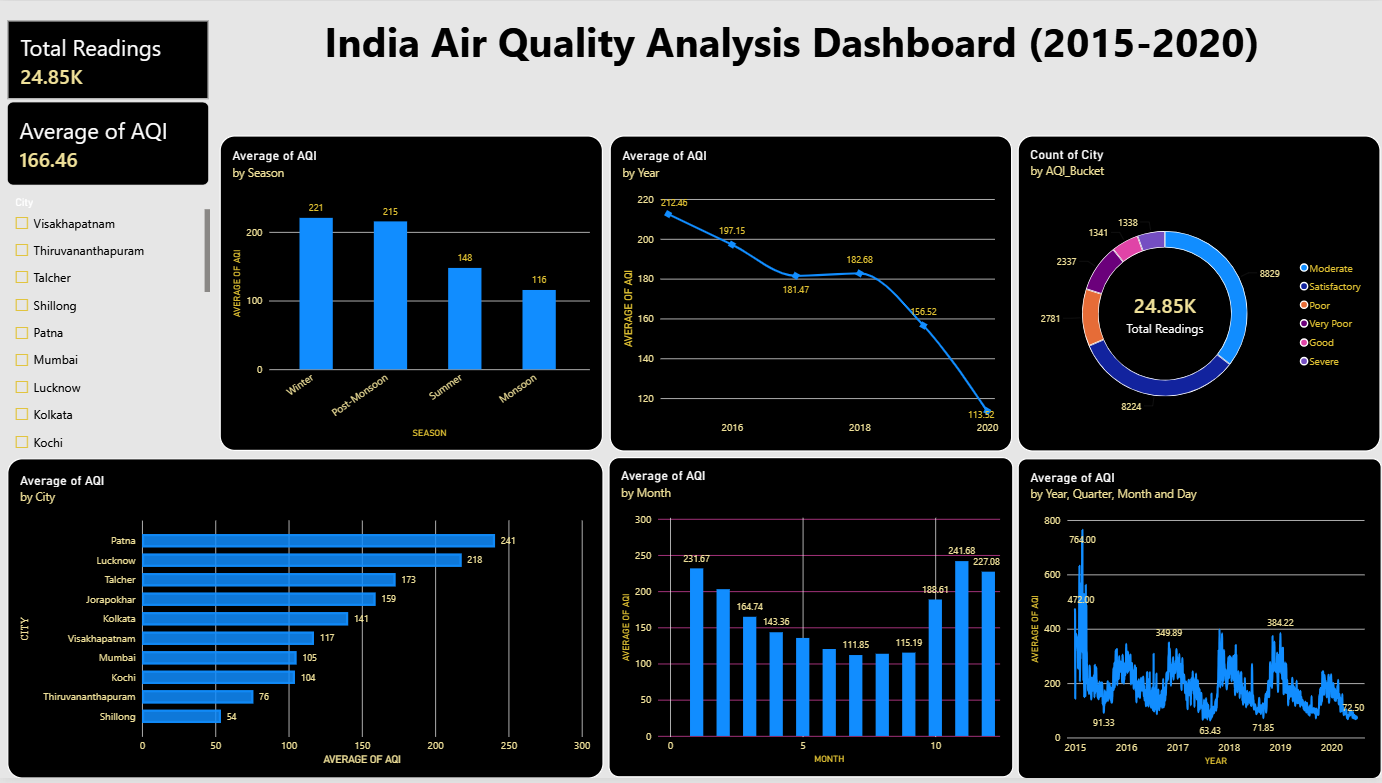

This screenshot's page, from the dashboard's own definition file:
{"tool":"powerbi","page":{"name":"Page 1","canvas":[1920,1080],"ordinal":0},"visuals":[{"type":"cardVisual","fields":{"Data":["CountNonNull(city_day export2.City)"]},"box":[10,26,280,110],"z":0},{"type":"cardVisual","fields":{"Data":["Avg(city_day export2.AQI)"]},"box":[10.6,139.2,280,116],"z":1000},{"type":"clusteredBarChart","fields":{"Category":["city_day export2.City"],"Y":["Avg(city_day export2.AQI)"]},"box":[9.9,634.2,828.6,444.8],"z":2000},{"type":"clusteredColumnChart","fields":{"Category":["city_day export2.Season"],"Y":["Avg(city_day export2.AQI)"]},"box":[304.8,186.2,532.1,438.2],"z":3000},{"type":"lineChart","fields":{"Category":["city_day export2.Year"],"Y":["Avg(city_day export2.AQI)"]},"box":[846,186.8,559,438.8],"z":4000},{"type":"donutChart","title":"Count of City","fields":{"Category":["city_day export2.AQI_Bucket"],"Y":["CountNonNull(city_day export2.City)"]},"box":[1413.4,186.8,504,438.8],"z":5000},{"type":"lineChart","fields":{"Category":["city_day export2.Date.Variation.Date Hierarchy.Year","city_day export2.Date.Variation.Date Hierarchy.Quarter","city_day export2.Date.Variation.Date Hierarchy.Month","city_day export2.Date.Variation.Date Hierarchy.Day"],"Y":["Avg(city_day export2.AQI)"]},"box":[1413.4,634.5,505.8,445.9],"z":6000},{"type":"textbox","box":[283.7,15.9,1633.7,96.9],"z":8000},{"type":"clusteredColumnChart","fields":{"Category":["city_day export2.Month"],"Y":["Avg(city_day export2.AQI)"]},"box":[845.3,634,562.3,445.3],"z":9000},{"type":"slicer","fields":{"Values":["city_day export2.City"]},"box":[14.1,271.4,278.5,356],"z":9001}]}

Visuals, with their boxes in screenshot pixels (x1, y1, x2, y2), scaled from the page's 1920x1080 canvas onto the 1382x783 screenshot:
cardVisual - CountNonNull(city_day export2.City): (left=7, top=19, right=209, bottom=99)
cardVisual - Avg(city_day export2.AQI): (left=8, top=101, right=209, bottom=185)
clusteredBarChart - city_day export2.City x Avg(city_day export2.AQI): (left=7, top=460, right=604, bottom=782)
clusteredColumnChart - city_day export2.Season x Avg(city_day export2.AQI): (left=219, top=135, right=602, bottom=453)
lineChart - city_day export2.Year x Avg(city_day export2.AQI): (left=609, top=135, right=1011, bottom=454)
"Count of City" donutChart: (left=1017, top=135, right=1380, bottom=454)
lineChart - city_day export2.Date.Variation.Date Hierarchy.Year x city_day export2.Date.Variation.Date Hierarchy.Quarter: (left=1017, top=460, right=1381, bottom=782)
textbox: (left=204, top=12, right=1380, bottom=82)
clusteredColumnChart - city_day export2.Month x Avg(city_day export2.AQI): (left=608, top=460, right=1013, bottom=782)
slicer - city_day export2.City: (left=10, top=197, right=211, bottom=455)
